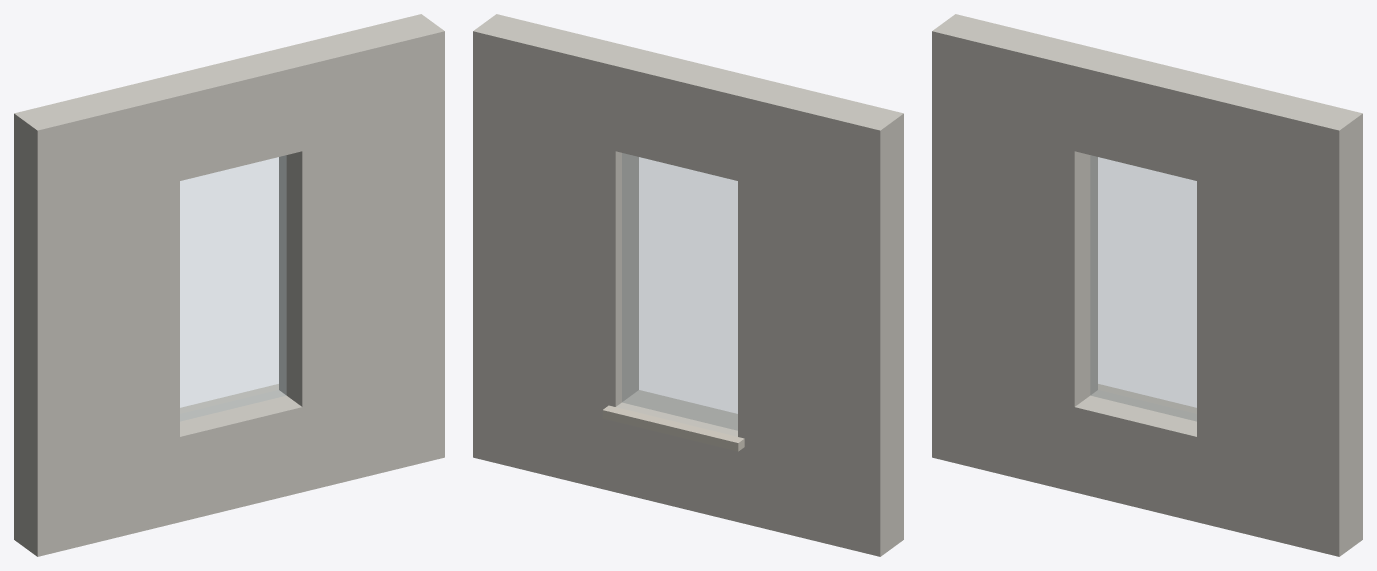
The model's file is fac_render_win_b.glb.
The picture shows the model from 3 angles, left to right: view 1: azimuth 30°, elevation 25°; view 2: azimuth 150°, elevation 25°; view 3: azimuth 330°, elevation 25°; orthographic projection.
Parts seen in each view (by area): view 1: fac_render_win_b; view 2: fac_render_win_b; view 3: fac_render_win_b.
Part boxes in pixels (left/top/right/bottom): fac_render_win_b: left=14, top=14, right=444, bottom=556; fac_render_win_b: left=473, top=14, right=903, bottom=556; fac_render_win_b: left=932, top=14, right=1362, bottom=556.
Size of what is drawn, in the model's own units: 3 by 3 by 0.38.
